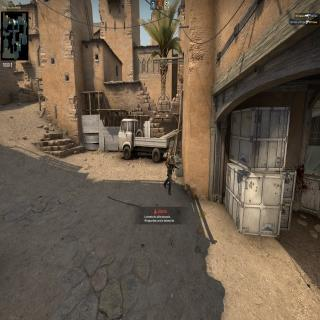T-Head: (170, 151, 175, 160)
